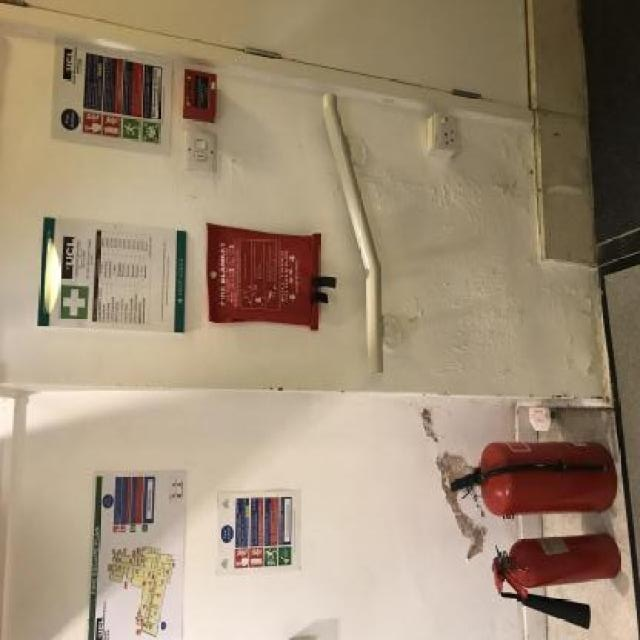fire extinguisher: (445, 435, 618, 522), (490, 526, 624, 634)
